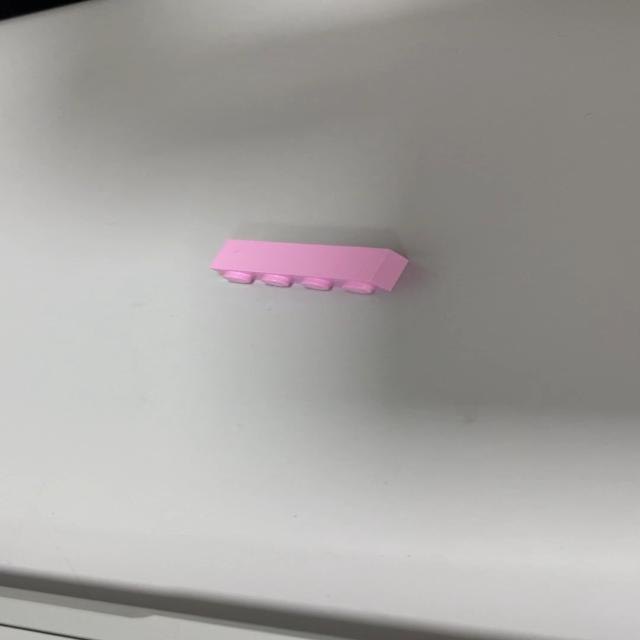C4x1x1: (208, 238, 409, 294)
